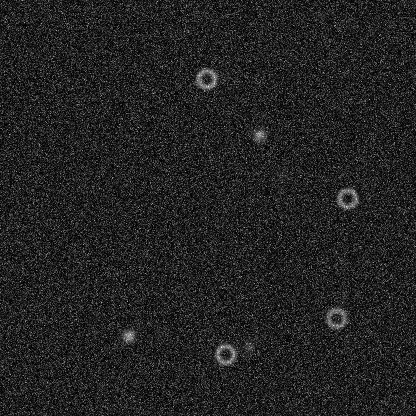Ring: (324, 306, 348, 330), (213, 342, 237, 366), (335, 186, 359, 210), (194, 66, 218, 90)
Spot: (273, 166, 289, 182), (240, 338, 256, 354), (120, 327, 136, 343), (251, 127, 267, 143)
